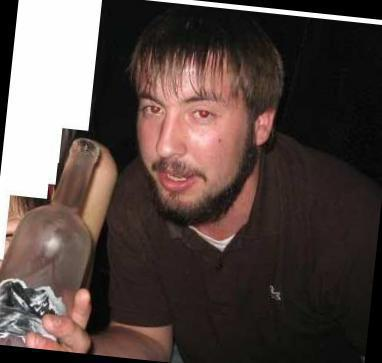Drunk: (136, 58, 244, 215)
